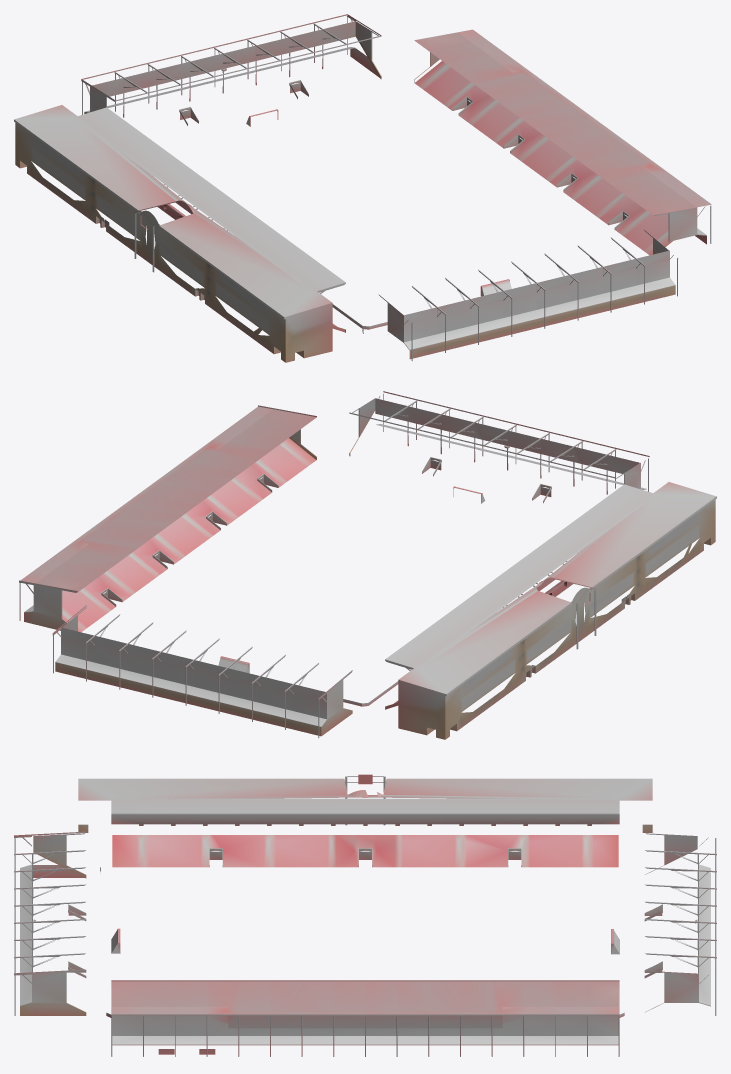
Rendered from LSV_stadium.glb.
3 views of the same model, one above another, from view 1: azimuth 30°, elevation 25°; view 2: azimuth 150°, elevation 25°; view 3: azimuth 270°, elevation 25° (orthographic). The views are drawn at different scales.
Visible parts, largest first — view 1: mesh_0_ROOT_Layer0; view 2: mesh_0_ROOT_Layer0; view 3: mesh_0_ROOT_Layer0.
Part boxes in pixels (x1=…): mesh_0_ROOT_Layer0: x1=14, y1=14, x2=711, y2=362; mesh_0_ROOT_Layer0: x1=19, y1=391, x2=716, y2=739; mesh_0_ROOT_Layer0: x1=14, y1=774, x2=716, y2=1056.
Size of the model in its own units: 119479 by 13320 by 150821.
